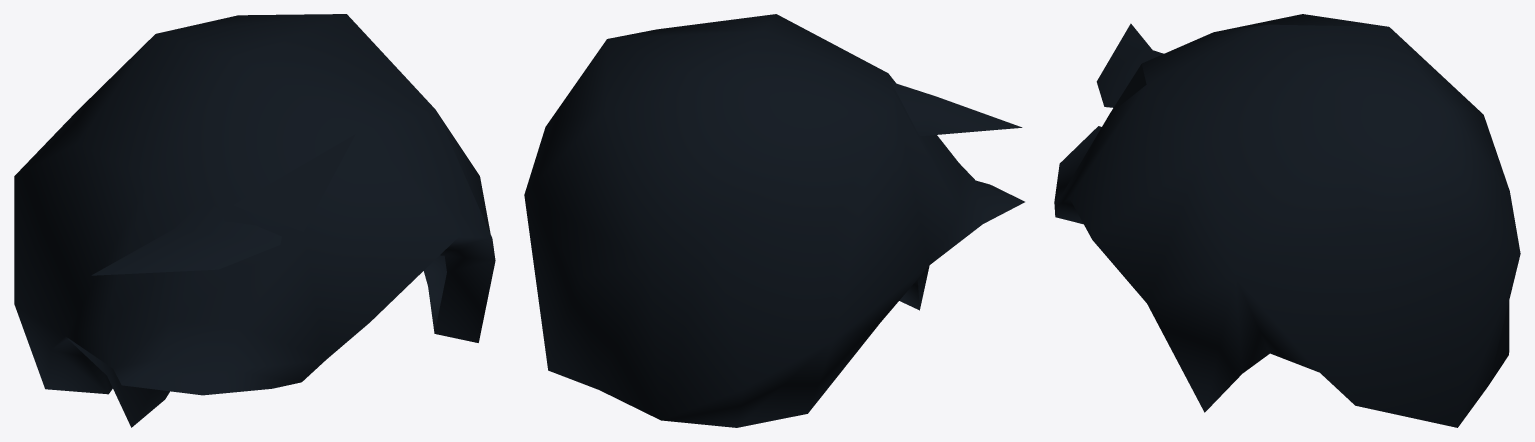
The model's file is HeroHair.fbx.
3 views of the same model, side by side, from view 1: azimuth 30°, elevation 25°; view 2: azimuth 150°, elevation 25°; view 3: azimuth 270°, elevation 25° (orthographic). The views are drawn at different scales.
Visible parts, largest first — view 1: HeroHair; view 2: HeroHair; view 3: HeroHair.
Boxes of the visible parts, left/top/right/bottom form: HeroHair: left=14, top=14, right=495, bottom=427; HeroHair: left=524, top=14, right=1024, bottom=427; HeroHair: left=1054, top=14, right=1520, bottom=427.
Bounding box in the file's own units: 61.63 × 46.05 × 57.01.
1 material, 1 textured.
